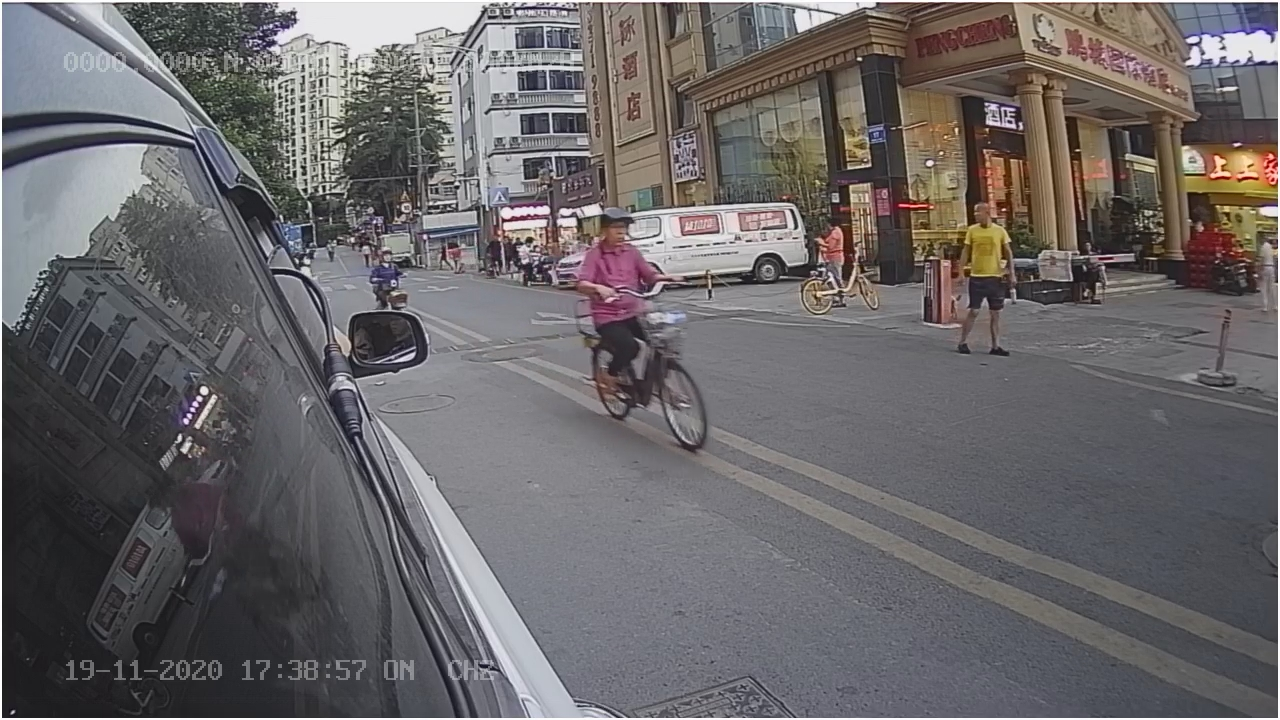person: (950, 197, 1024, 366), (577, 210, 662, 326)
